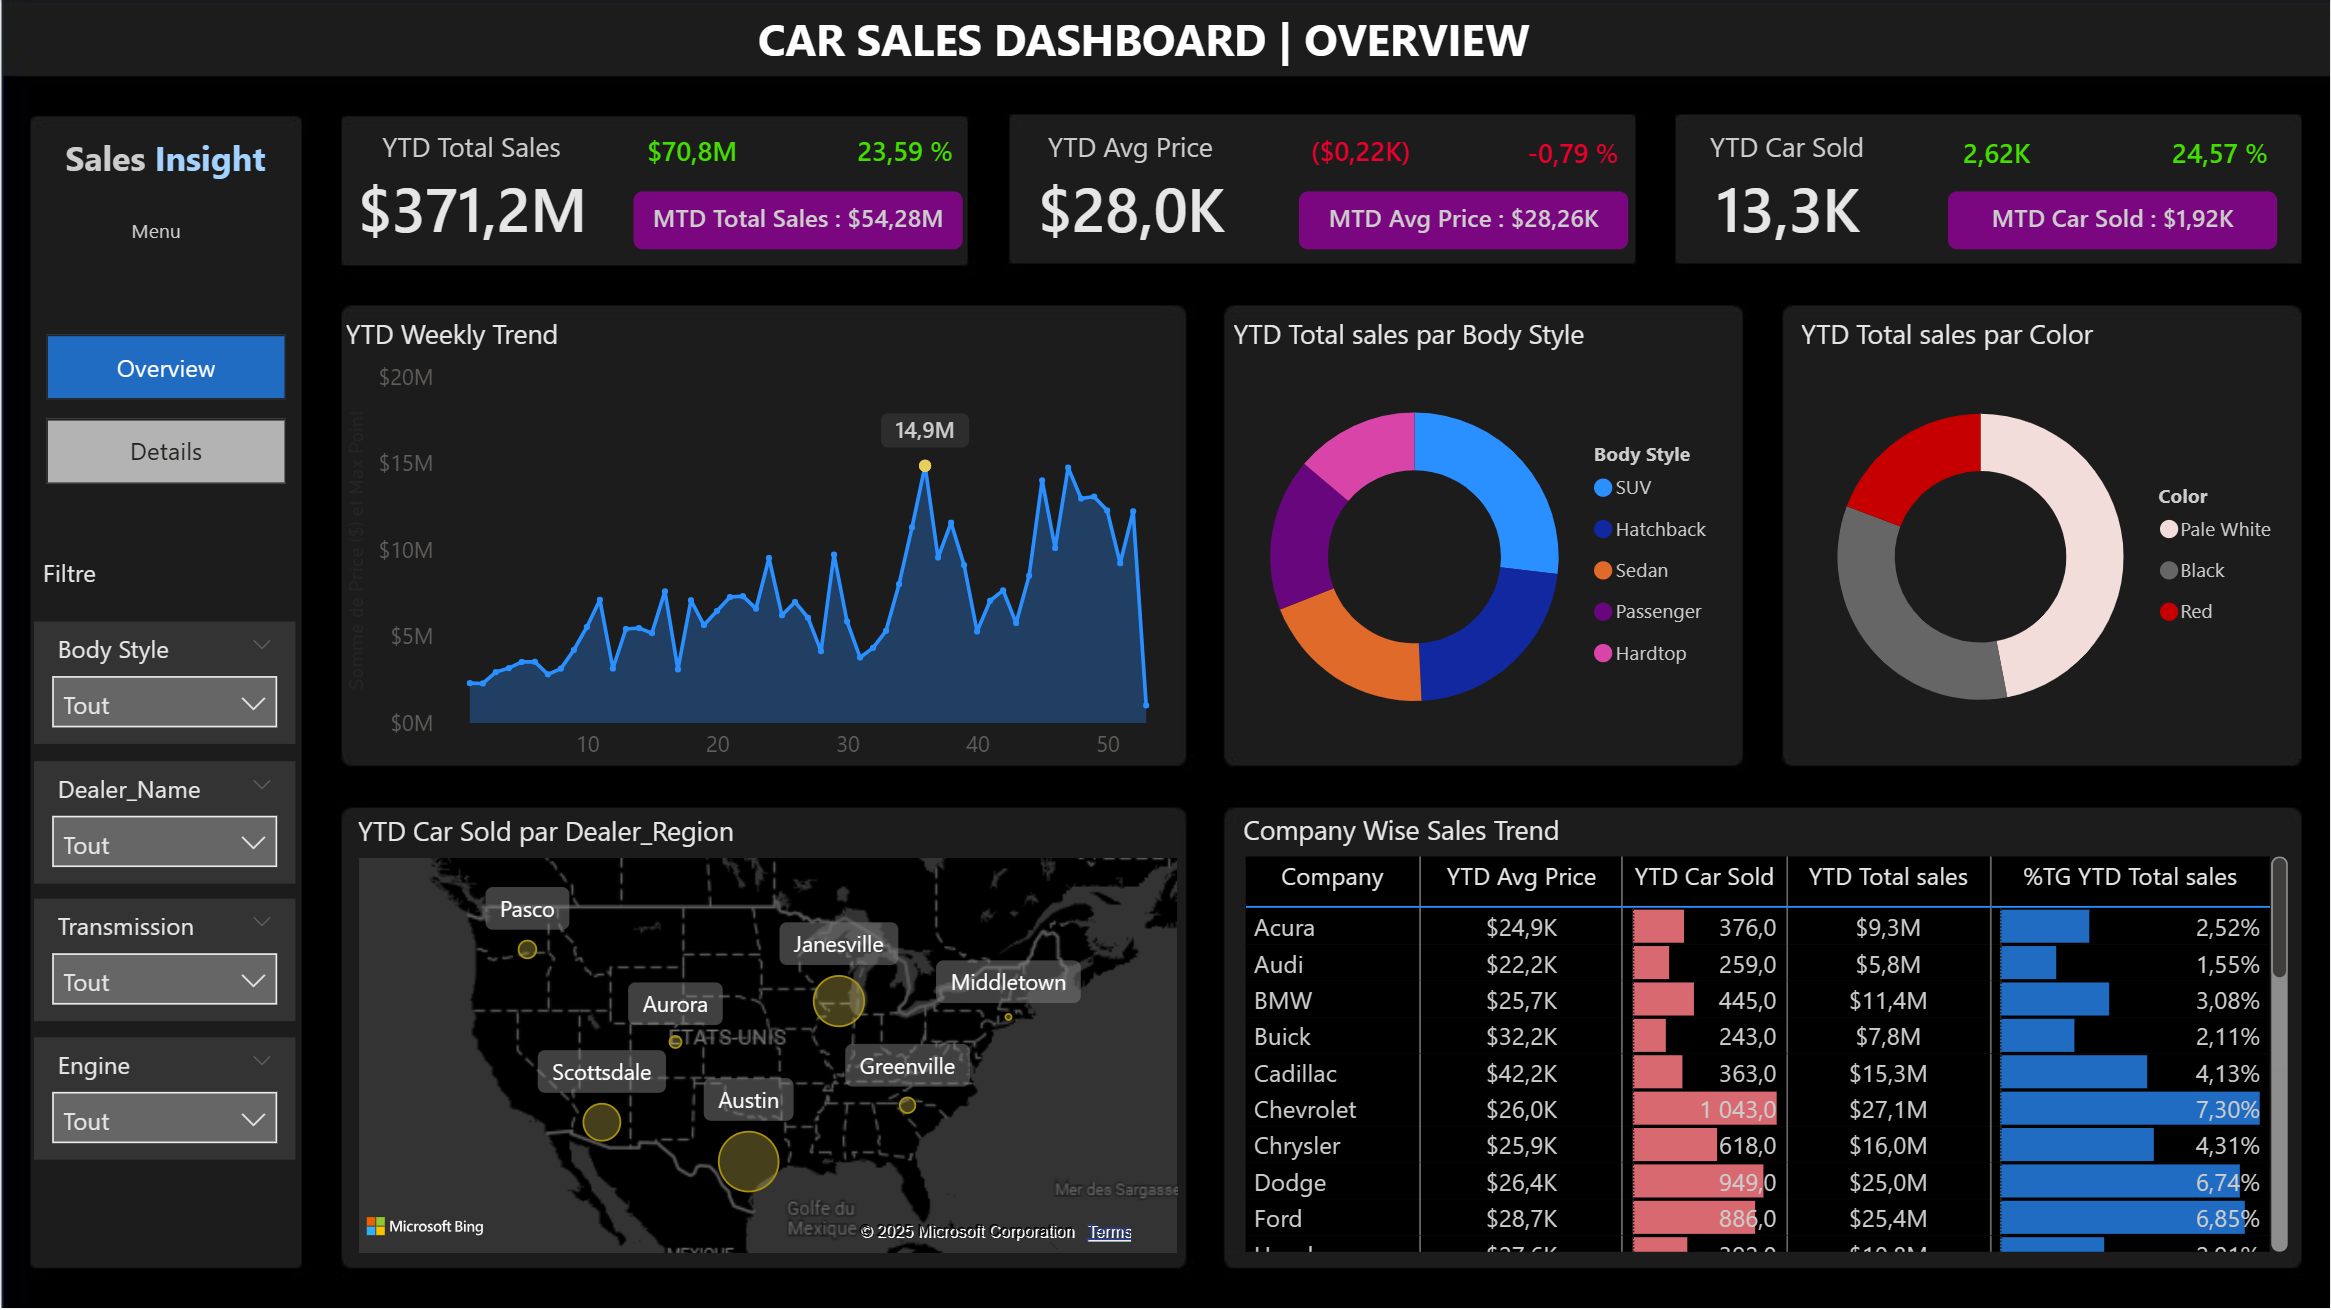

The page's visual inventory and layout, read from the dashboard file:
{"tool":"powerbi","page":{"name":"Overview","canvas":[1280,720],"ordinal":0},"visuals":[{"type":"card","title":"YTD Total Sales","fields":{"Values":["car_data.YTD Total sales"]},"box":[184.2,70.8,148.3,68.3],"z":0},{"type":"card","fields":{"Values":["car_data.Sales Difference"]},"box":[347.5,70.8,63.3,27.5],"z":1000},{"type":"card","fields":{"Values":["car_data.YOY Sales Growth"]},"box":[464.2,70.8,64.2,27.5],"z":2000},{"type":"card","fields":{"Values":["car_data.MTD KPI"]},"box":[347.5,105,180.8,32],"z":3000},{"type":"card","title":"YTD Avg Price","fields":{"Values":["car_data.YTD Avg Price"]},"box":[546.7,70.8,148.3,68.3],"z":4000},{"type":"card","fields":{"Values":["car_data.Avg Price Diff"]},"box":[713.3,70.8,66.7,27.5],"z":5000},{"type":"card","fields":{"Values":["car_data.YOY Avg Price Growth"]},"box":[832.5,71.7,61.7,27.5],"z":6000},{"type":"card","fields":{"Values":["car_data.MTD Avg Price KPI"]},"box":[713.3,105,180.8,31.7],"z":7000},{"type":"card","title":"YTD Car Sold","fields":{"Values":["car_data.YTD Car Sold"]},"box":[907.5,70.8,148.3,68.3],"z":8000},{"type":"card","fields":{"Values":["car_data.Cars Sold Diff"]},"box":[1070,71.7,52.5,27.5],"z":9000},{"type":"card","fields":{"Values":["car_data.YOY Car Sold Growth"]},"box":[1187.5,71.7,63.3,27.5],"z":10000},{"type":"card","fields":{"Values":["car_data.MTD Car Sold KPI"]},"box":[1070,105,180.8,31.7],"z":11000},{"type":"areaChart","title":"YTD Weekly Trend","fields":{"Category":["Table Calendrier.Week"],"Y":["Sum(car_data.Price ($))","car_data.Max Point"]},"box":[184.2,173.3,466.7,253.3],"z":12000},{"type":"donutChart","fields":{"Category":["car_data.Body Style"],"Y":["car_data.YTD Total sales"]},"box":[672.5,173.3,279.2,245],"z":13000},{"type":"donutChart","fields":{"Y":["car_data.YTD Total sales"],"Category":["car_data.Color"]},"box":[984.2,173.3,277.5,245],"z":14000},{"type":"map","fields":{"Category":["car_data.Dealer_Region"],"Size":["car_data.YTD Car Sold"]},"box":[190.8,446.7,460,246.7],"z":15000},{"type":"tableEx","title":"Company Wise Sales Trend","fields":{"Values":["car_data.Company","car_data.YTD Avg Price","car_data.YTD Car Sold","car_data.YTD Total sales","Divide(car_data.YTD Total sales, ScopedEval(car_data.YTD Total sales, []))"]},"box":[677.8,446.4,584,246.5],"z":16000},{"type":"textbox","box":[410.8,0,438.3,43.3],"z":17000},{"type":"slicer","fields":{"Values":["car_data.Body Style"]},"box":[18.3,341.7,143.3,67.5],"z":18000},{"type":"slicer","fields":{"Values":["car_data.Dealer_Name"]},"box":[18.3,418.3,143.3,67.5],"z":19000},{"type":"slicer","fields":{"Values":["car_data.Transmission"]},"box":[18.3,494.2,143.3,67.5],"z":20000},{"type":"slicer","fields":{"Values":["car_data.Engine"]},"box":[18.3,570,143.3,67.5],"z":21000},{"type":"textbox","box":[18.3,300,143.3,31.7],"z":22000},{"type":"textbox","box":[18.5,68.5,143.1,36.3],"z":23000},{"type":"textbox","box":[60.9,110.9,48.6,28.1],"z":24000},{"type":"pageNavigator","box":[24.6,183.5,132.1,82.2],"z":24001}]}

Visuals, with their boxes in screenshot pixels (x1, y1, x2, y2), scaled from the page's 1280x720 canvas onto the 2331x1310 screenshot:
"YTD Total Sales" card: (left=335, top=129, right=606, bottom=253)
card - car_data.Sales Difference: (left=633, top=129, right=748, bottom=179)
card - car_data.YOY Sales Growth: (left=845, top=129, right=962, bottom=179)
card - car_data.MTD KPI: (left=633, top=191, right=962, bottom=249)
"YTD Avg Price" card: (left=996, top=129, right=1266, bottom=253)
card - car_data.Avg Price Diff: (left=1299, top=129, right=1420, bottom=179)
card - car_data.YOY Avg Price Growth: (left=1516, top=130, right=1628, bottom=180)
card - car_data.MTD Avg Price KPI: (left=1299, top=191, right=1628, bottom=249)
"YTD Car Sold" card: (left=1653, top=129, right=1923, bottom=253)
card - car_data.Cars Sold Diff: (left=1949, top=130, right=2044, bottom=180)
card - car_data.YOY Car Sold Growth: (left=2163, top=130, right=2278, bottom=180)
card - car_data.MTD Car Sold KPI: (left=1949, top=191, right=2278, bottom=249)
"YTD Weekly Trend" areaChart: (left=335, top=315, right=1185, bottom=776)
donutChart - car_data.Body Style x car_data.YTD Total sales: (left=1225, top=315, right=1733, bottom=761)
donutChart - car_data.YTD Total sales x car_data.Color: (left=1792, top=315, right=2298, bottom=761)
map - car_data.Dealer_Region x car_data.YTD Car Sold: (left=347, top=813, right=1185, bottom=1262)
"Company Wise Sales Trend" tableEx: (left=1234, top=812, right=2298, bottom=1261)
textbox: (left=748, top=0, right=1546, bottom=79)
slicer - car_data.Body Style: (left=33, top=622, right=294, bottom=745)
slicer - car_data.Dealer_Name: (left=33, top=761, right=294, bottom=884)
slicer - car_data.Transmission: (left=33, top=899, right=294, bottom=1022)
slicer - car_data.Engine: (left=33, top=1037, right=294, bottom=1160)
textbox: (left=33, top=546, right=294, bottom=604)
textbox: (left=34, top=125, right=294, bottom=191)
textbox: (left=111, top=202, right=199, bottom=253)
pageNavigator: (left=45, top=334, right=285, bottom=483)
